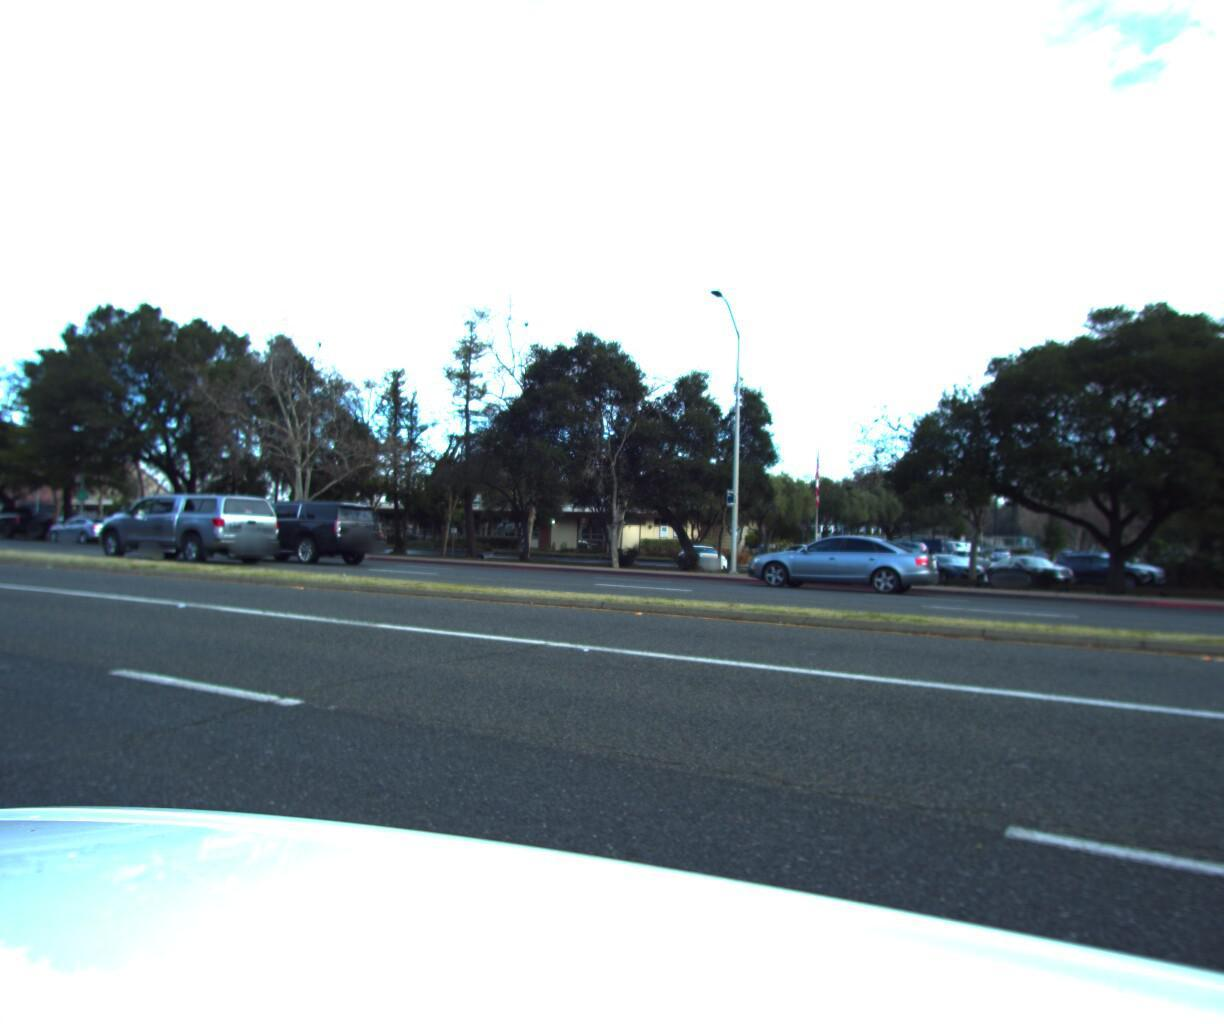car: (84, 487, 287, 563), (739, 525, 945, 594), (228, 493, 413, 565), (41, 510, 128, 540), (0, 498, 59, 536)
